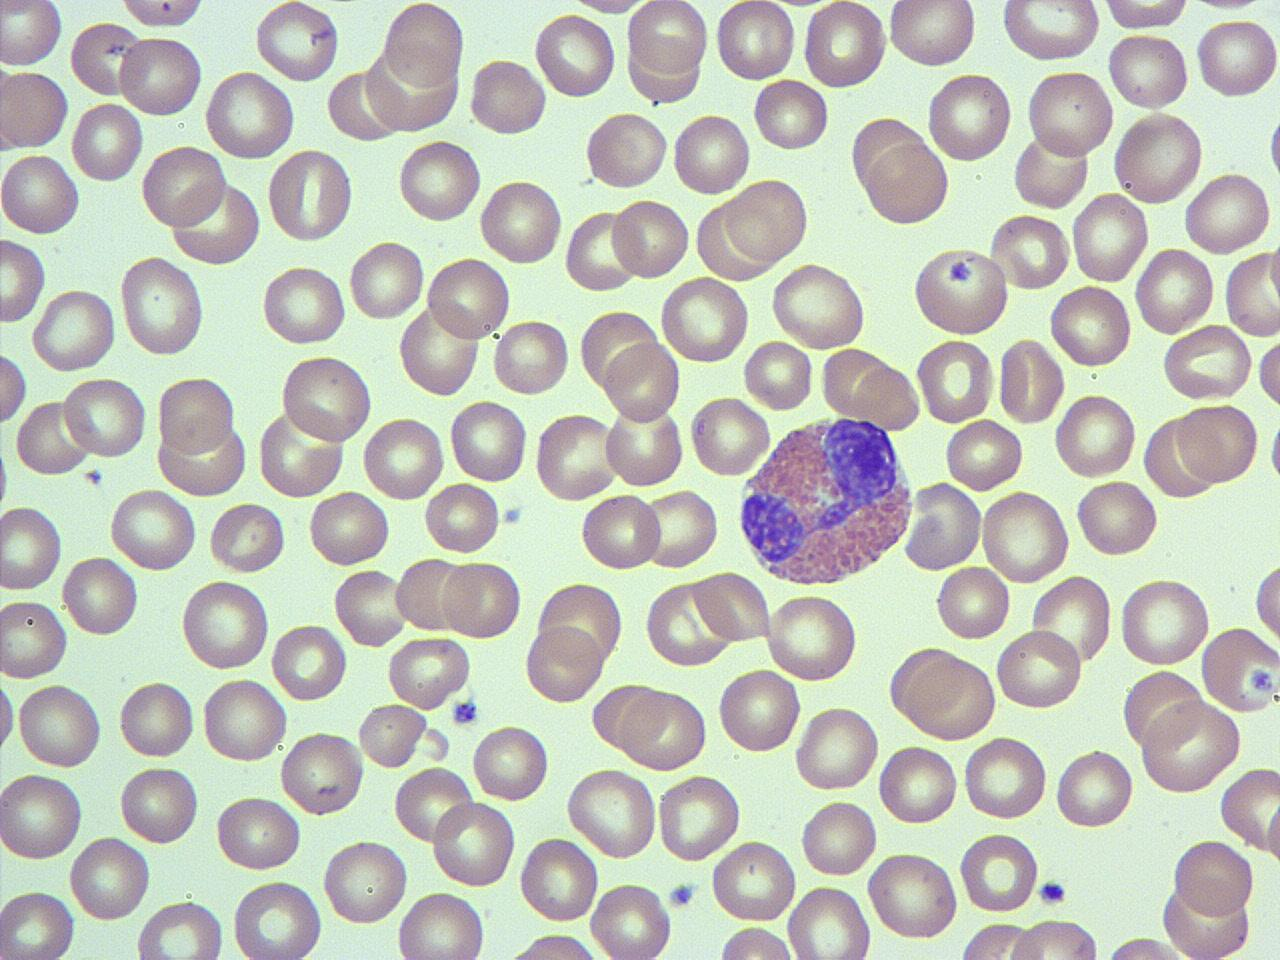Platelets: (666, 880, 698, 911), (1037, 878, 1069, 906), (450, 698, 480, 726), (500, 505, 526, 526)
RBC: (1140, 696, 1242, 796), (768, 260, 871, 352), (117, 252, 207, 357), (979, 487, 1073, 586), (202, 68, 298, 163), (1024, 66, 1117, 165), (898, 650, 1001, 740), (564, 765, 660, 861), (912, 244, 1010, 338), (764, 590, 860, 685), (1117, 574, 1213, 668), (1111, 108, 1203, 206), (396, 298, 484, 401), (280, 352, 376, 446), (864, 849, 959, 942), (178, 578, 272, 672), (531, 579, 624, 674), (266, 146, 355, 245), (925, 69, 1015, 165), (659, 273, 751, 367), (1028, 570, 1114, 670), (708, 836, 800, 928), (319, 836, 411, 929), (617, 684, 711, 774), (255, 405, 345, 500), (200, 674, 289, 768), (14, 680, 106, 771), (169, 178, 263, 267), (277, 726, 366, 820), (716, 663, 803, 757), (1069, 188, 1151, 288), (532, 408, 620, 502), (425, 253, 513, 347), (0, 768, 86, 864), (794, 702, 883, 794), (656, 770, 743, 864), (431, 798, 518, 891), (1182, 168, 1274, 256), (1047, 280, 1135, 372), (228, 877, 326, 959), (864, 138, 952, 228), (962, 732, 1050, 822), (140, 141, 228, 232), (397, 136, 484, 228), (1132, 244, 1215, 339), (724, 176, 812, 265), (108, 486, 199, 573), (532, 9, 618, 101), (800, 1, 888, 90), (1172, 400, 1262, 487), (66, 834, 152, 924), (478, 176, 564, 266), (117, 32, 205, 120), (258, 262, 348, 348), (901, 479, 983, 573), (30, 286, 118, 373), (1054, 391, 1140, 480), (582, 107, 670, 193), (876, 740, 961, 830), (996, 626, 1083, 712), (578, 490, 666, 575), (1052, 744, 1136, 834), (447, 395, 530, 486), (1159, 323, 1253, 402), (361, 415, 446, 502), (607, 195, 692, 281), (116, 762, 201, 850), (59, 376, 148, 460), (688, 393, 772, 482), (214, 792, 303, 874), (518, 834, 600, 925), (1073, 476, 1161, 560), (604, 400, 686, 489), (384, 2, 466, 92), (1, 148, 82, 239), (254, 0, 341, 84), (60, 550, 140, 640), (1106, 30, 1192, 113), (347, 235, 427, 324), (915, 336, 995, 426), (1200, 623, 1278, 715), (1194, 16, 1278, 101), (391, 762, 474, 848), (440, 557, 523, 642), (671, 110, 753, 197), (956, 828, 1040, 912), (466, 54, 548, 139), (491, 315, 572, 400), (641, 484, 721, 572), (394, 886, 489, 960), (786, 882, 876, 960), (563, 205, 639, 296), (470, 720, 552, 804), (156, 372, 238, 457), (712, 1, 797, 82), (800, 795, 880, 881), (270, 618, 349, 706), (117, 677, 197, 762), (306, 489, 392, 569), (69, 99, 146, 187), (988, 211, 1070, 292), (604, 338, 682, 424), (590, 880, 673, 960), (1172, 836, 1256, 916), (333, 566, 410, 651), (750, 74, 830, 155), (385, 636, 472, 712), (522, 624, 602, 706), (626, 0, 711, 77), (885, 0, 978, 69), (1011, 132, 1091, 212), (998, 1, 1102, 62), (692, 568, 772, 646), (943, 415, 1024, 493), (1, 594, 70, 684), (997, 336, 1065, 426), (935, 563, 1011, 643), (0, 66, 71, 151), (1217, 762, 1279, 858), (132, 896, 226, 960), (0, 502, 65, 594), (742, 336, 816, 414), (69, 19, 142, 99), (206, 500, 285, 574), (422, 480, 500, 554), (0, 886, 77, 960), (1222, 244, 1280, 340), (589, 680, 665, 752), (356, 700, 430, 772), (852, 360, 922, 432), (0, 231, 49, 326), (1, 0, 65, 70), (1008, 916, 1103, 960), (956, 919, 1040, 960), (498, 931, 609, 960), (712, 924, 800, 960), (1099, 0, 1195, 32), (115, 0, 210, 32), (1250, 556, 1280, 648), (1097, 934, 1197, 960), (0, 343, 29, 432), (1254, 334, 1280, 414)
WBC: (733, 411, 918, 591)
